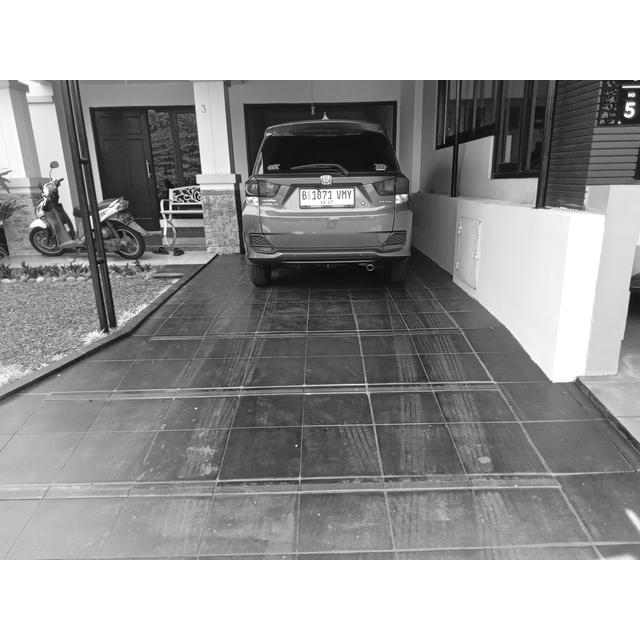license: (301, 189, 352, 205)
